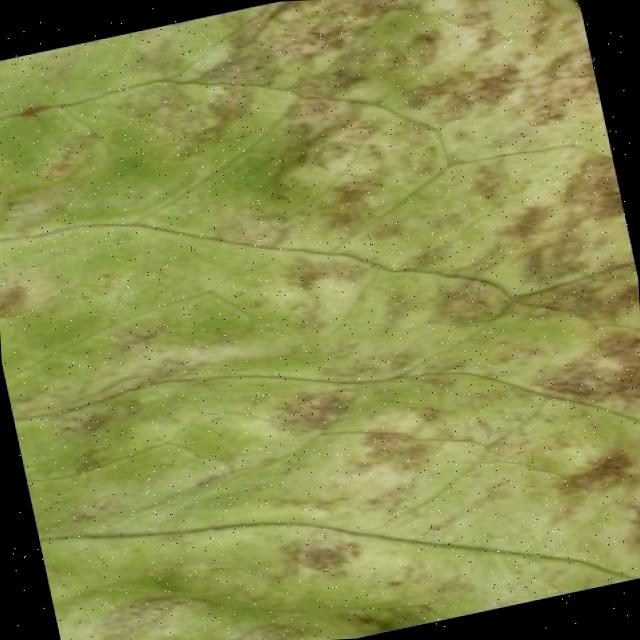Septoria_Blight: (110, 0, 640, 640), (622, 0, 640, 623)
